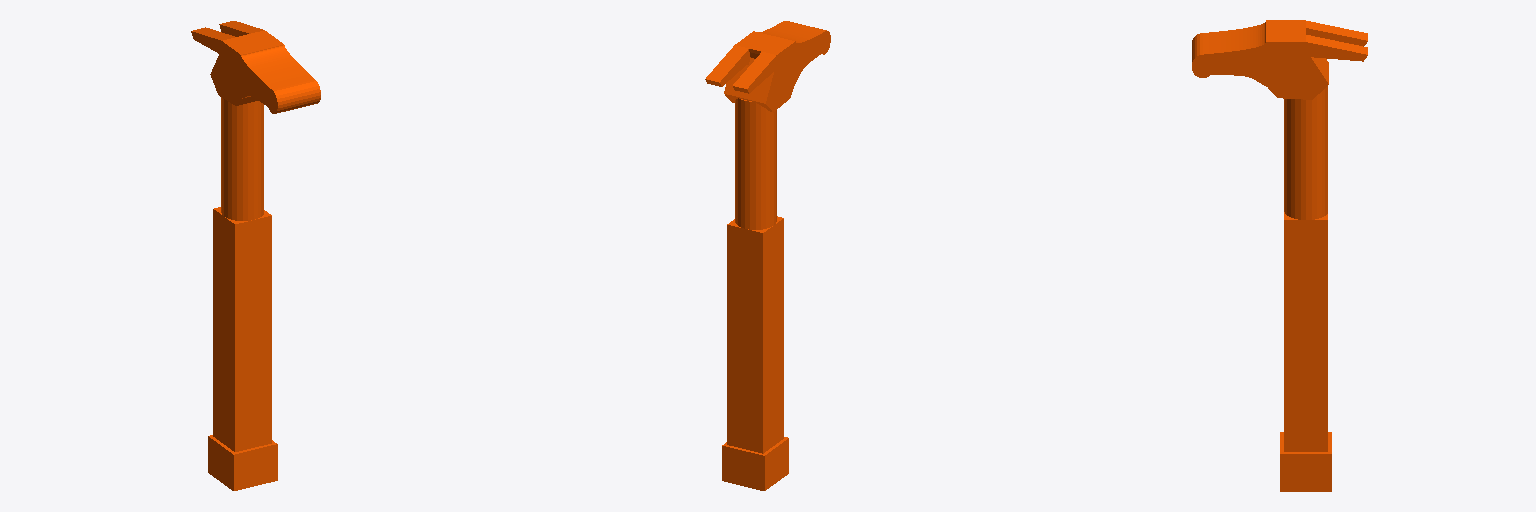
robot.urdf — Hammer_6a78ea13e605452c8ee45bd8e008284e:
<?xml version="1.0" ?>
<robot name="Hammer_6a78ea13e605452c8ee45bd8e008284e">
   <material name="obj_color">
      <color rgba="1.0 0.423529411765 0.0392156862745 1.0"/>
   </material>
   <link name="top">
      <inertial>
         <origin rpy="1.82949897164297e-05 0.0002012845714396364 0.0002147552351302685" xyz="8.114051167020459e-05 -0.0007016135850824071 -0.01444866752159315"/>
         <mass value="0.1020730428055334"/>
         <inertia ixx="0.0002147551111198399" ixy="9.008145310181416e-09" ixz="-1.558231158756282e-07" iyy="0.0002006357619050704" iyz="1.087678041475014e-05" izz="1.894392326142425e-05"/>
      </inertial>
      <visual>
         <origin rpy="0 0 0" xyz="0 0 0"/>
         <geometry>
            <mesh filename="top_watertight_tiny.stl" scale="1 1 1"/>
         </geometry>
         <material name="obj_color"/>
      </visual>
      <collision>
         <origin rpy="0 0 0" xyz="0 0 0"/>
         <geometry>
            <mesh filename="top_watertight_tiny.obj" scale="1 1 1"/>
         </geometry>
      </collision>
   </link>
   <link name="bottom">
      <inertial>
         <origin rpy="1.633333333199431e-08 1.633333333199431e-08 1.633333333362855e-08" xyz="0.3464080000000008 0.3464080000000008 0.3464080000000008"/>
         <mass value="0.0009800000000000017"/>
         <inertia ixx="1.633333333253906e-08" ixy="5.447480642029219e-19" ixz="5.447480642029219e-19" iyy="1.633333333253906e-08" iyz="5.447480642029219e-19" izz="1.633333333253906e-08"/>
      </inertial>
      <visual>
         <origin rpy="0 0 0" xyz="0 0 0"/>
         <geometry>
            <mesh filename="bottom_watertight_tiny.stl" scale="1 1 1"/>
         </geometry>
         <material name="obj_color"/>
      </visual>
   </link>
   <link name="world"/>
   <joint name="world_to_base" type="fixed">
      <origin xyz="0 0 0"/>
      <axis xyz="0 0 0"/>
      <parent link="world"/>
      <child link="bottom"/>
   </joint>
   <joint name="rotation" type="revolute">
      <origin xyz="0 0 0"/>
      <axis xyz="0 0 -1"/>
      <parent link="bottom"/>
      <child link="top"/>
      <dynamics damping="1.0" friction="1.0"/>
      <limit effort="0.1" velocity="0.1" lower="0" upper="0.001"/>
   </joint>
</robot>

--- Render facts (derived) ---
The picture shows the robot from 3 angles, left to right: view 1: azimuth 30°, elevation 25°; view 2: azimuth 150°, elevation 25°; view 3: azimuth 270°, elevation 25°; orthographic projection.
Robot: Hammer_6a78ea13e605452c8ee45bd8e008284e — 3 links, 2 joints (1 revolute, 1 fixed); root link world; default pose: every joint at zero.
Visible links, largest first — view 1: top; view 2: top; view 3: top.
Boxes of the visible links, left/top/right/bottom form: top: left=191, top=21, right=320, bottom=490; top: left=705, top=21, right=830, bottom=490; top: left=1192, top=20, right=1367, bottom=491.
Size in the robot's own frame: 0.017 by 0.0581 by 0.163 metres.
1 mesh visuals loaded from 2 distinct referenced files (1 binary STL); not drawn: 1 (reference not matched to a file when rendering).
